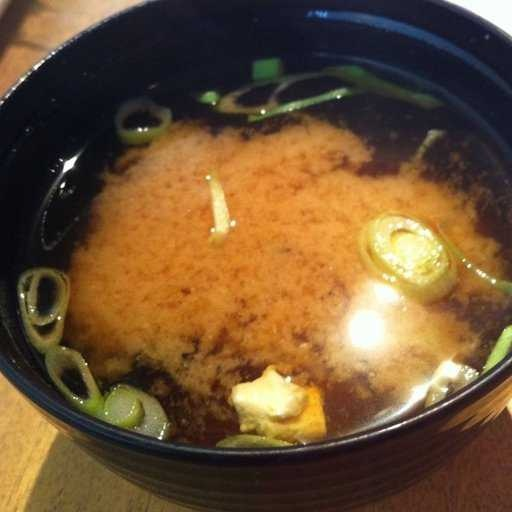soup: (23, 20, 493, 445)
